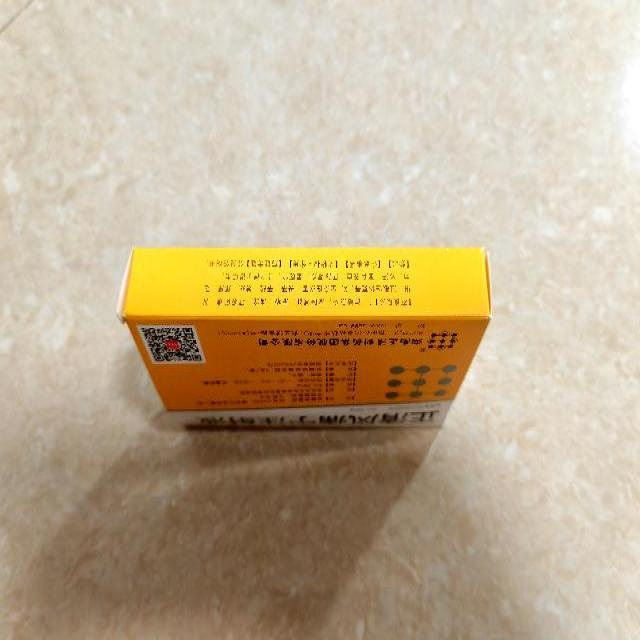box: (121, 244, 493, 430)
